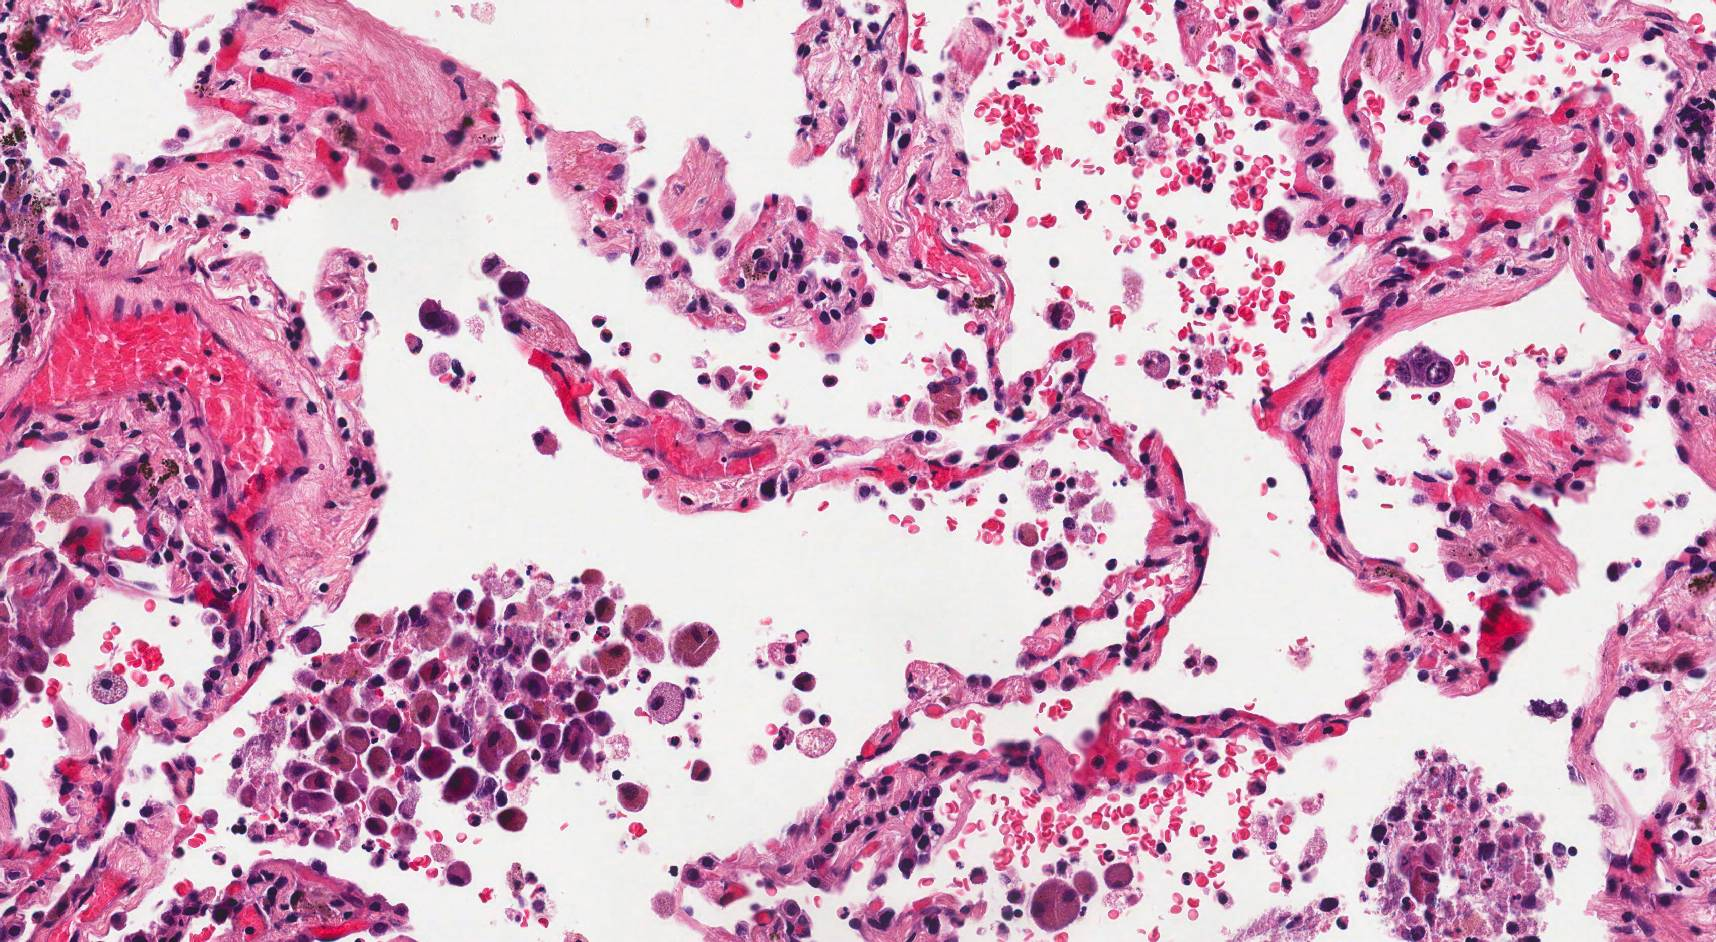stas: (1395, 340, 1456, 389)
